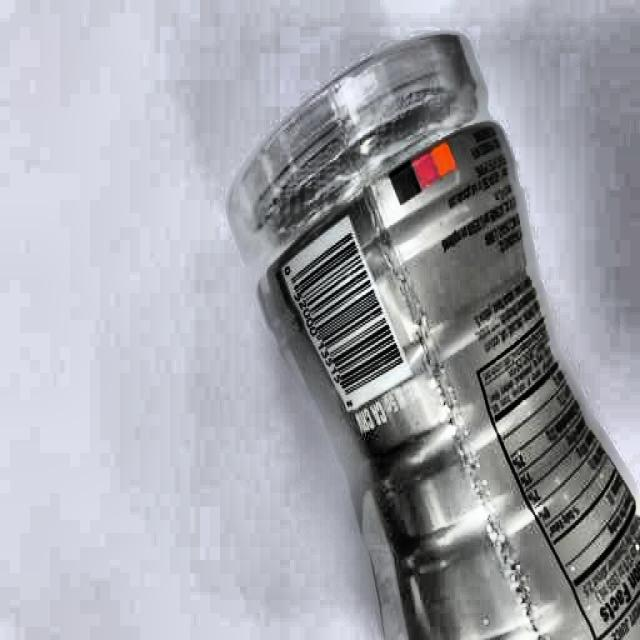plastic: (229, 32, 640, 640)
